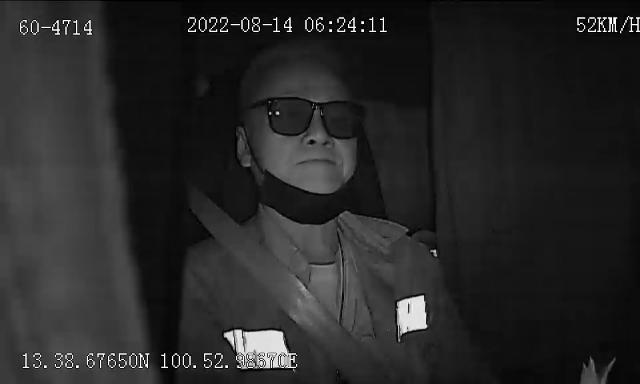Seatbelt: (198, 200, 376, 384)
